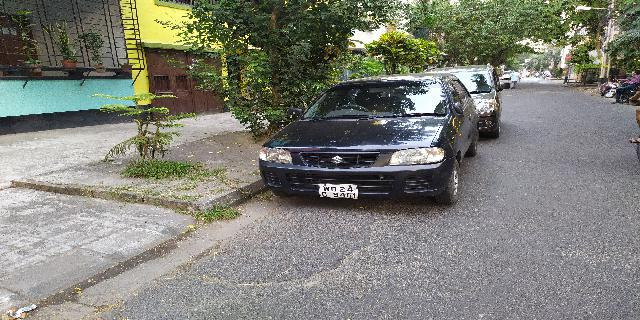Car: (259, 70, 484, 206), (420, 58, 516, 140)
